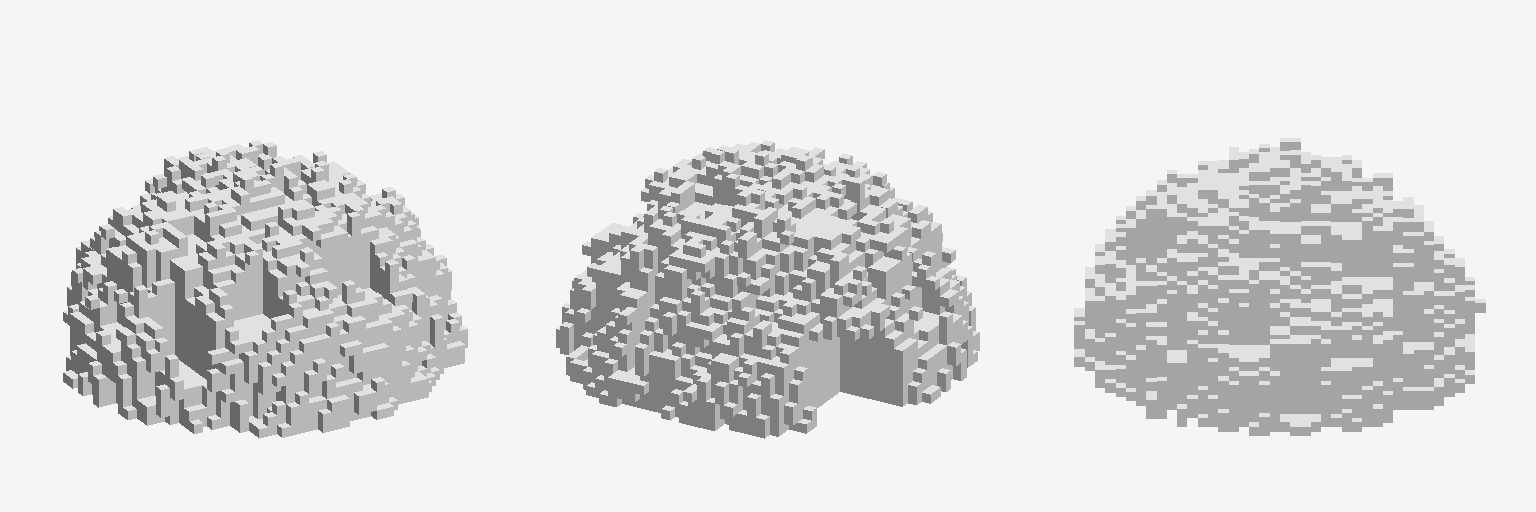
The model's file is stone1.obj.
3 views of the same model, side by side, from view 1: azimuth 30°, elevation 25°; view 2: azimuth 150°, elevation 25°; view 3: azimuth 270°, elevation 25° (orthographic).
Parts seen in each view (by area): view 1: object 1; view 2: object 1; view 3: object 1.
Part boxes in pixels (x1,y1,x2,y2): object 1: (63,140,467,438); object 1: (556,140,979,438); object 1: (1074,138,1485,435).
Size of the model in its own units: 4 by 2 by 4.